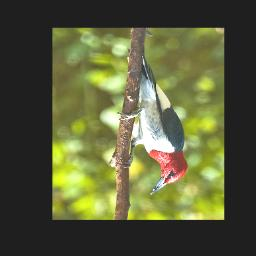Woodpecker: (118, 49, 189, 194)
